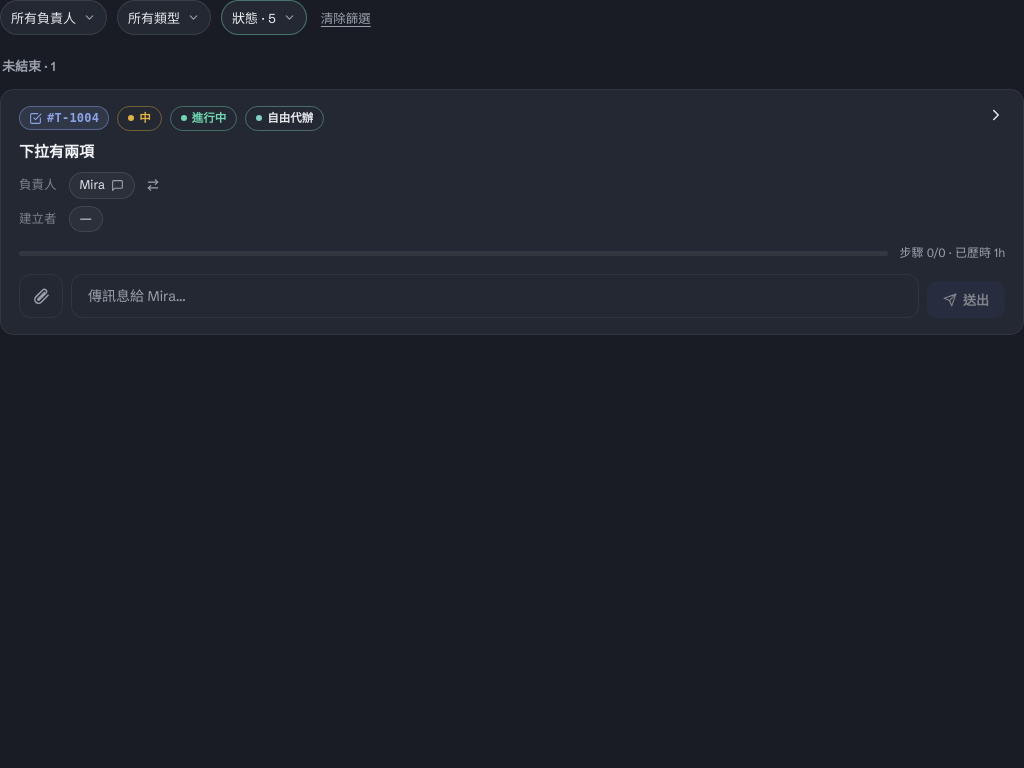
Scenario: spec ② 狀態 badge → 下拉選單 › carries 標記重複 + 終止, and 標記重複 opens the dup picker
Click the button with test id "task-status" at (204, 118), box [170,106,237,131]
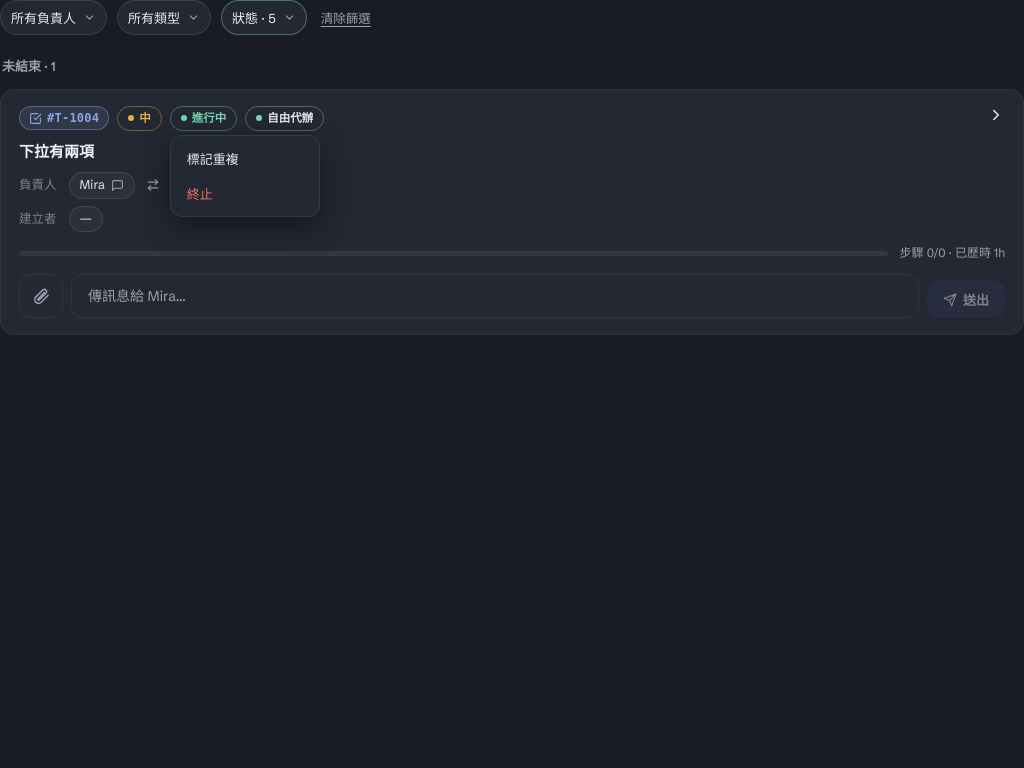
expect the menu item with test id "task-mark-duplicate" reads "標記重複": met
expect the menu item with test id "task-terminate" reads "終止": met, box [177,177,313,210]
Note: The item really wires the action through (not a dead label).
Click the menu item with test id "task-mark-duplicate" at (245, 158), box [177,142,313,175]
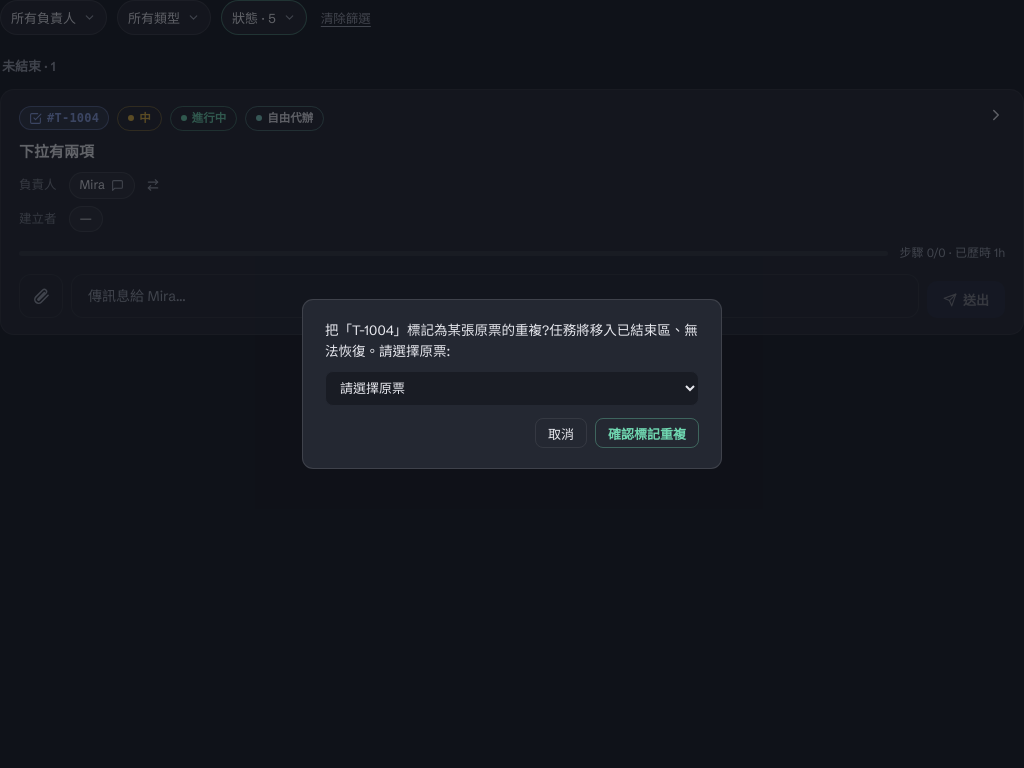
expect the dialog with test id "mark-duplicate" is shown: met
